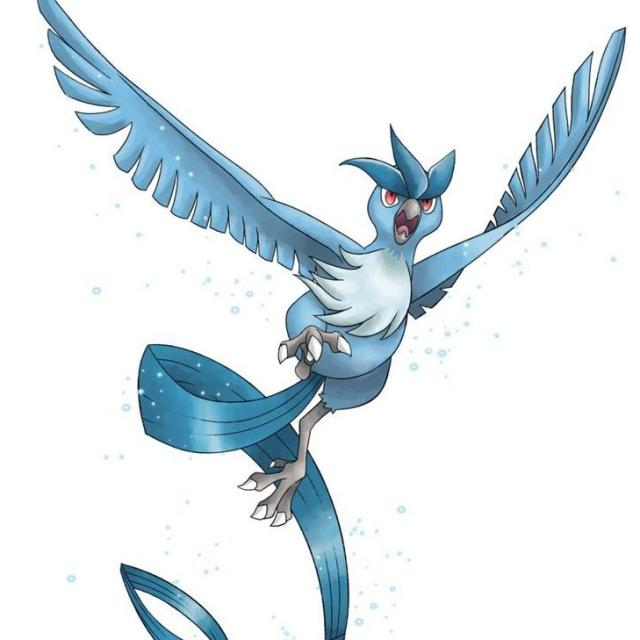Articuno: (139, 122, 546, 496)
